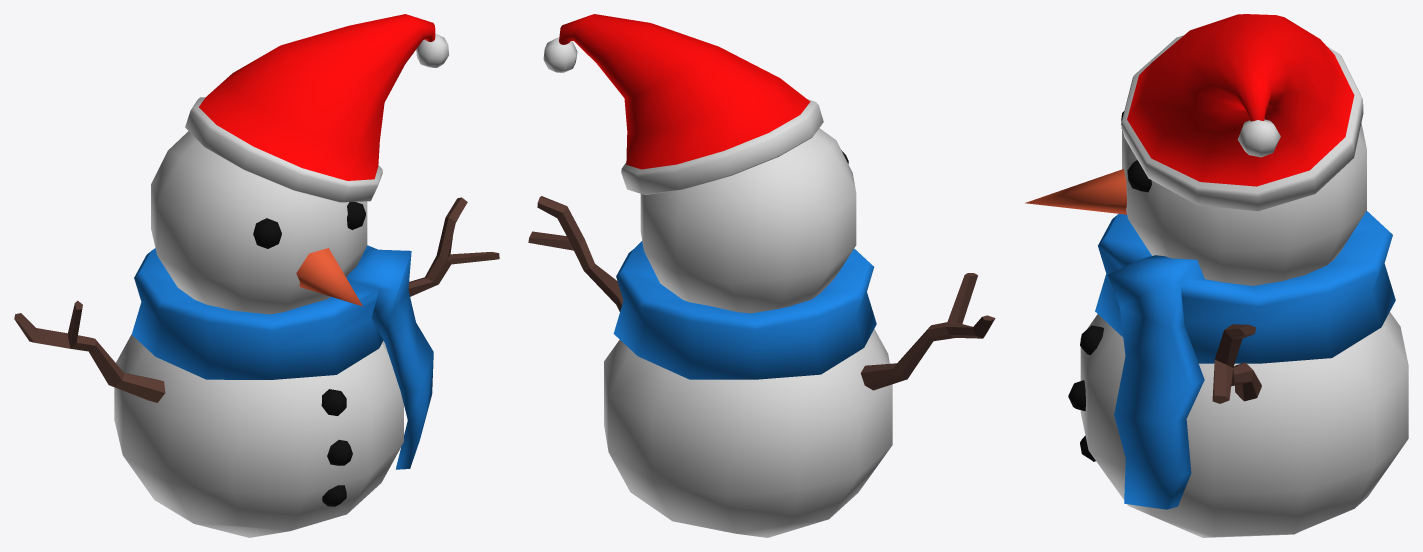
Rendered from snowman_2022_cc.glb.
3 views of the same model, side by side, from view 1: azimuth 30°, elevation 25°; view 2: azimuth 150°, elevation 25°; view 3: azimuth 270°, elevation 25° (orthographic). The views are drawn at different scales.
Visible parts, largest first — view 1: 1.070, primary, 4.002, 5.002, 2.037, 3.010; view 2: 1.070, 4.002, primary, 5.002; view 3: 1.070, primary, 4.002, 5.002, 3.010, 2.037.
Part boxes in pixels (left/top/right/bottom): 1.070: left=114, top=33, right=448, bottom=537; primary: left=131, top=245, right=433, bottom=469; 4.002: left=199, top=14, right=435, bottom=180; 5.002: left=14, top=197, right=499, bottom=402; 2.037: left=253, top=202, right=365, bottom=506; 3.010: left=296, top=248, right=362, bottom=306; 1.070: left=543, top=37, right=892, bottom=537; 4.002: left=559, top=14, right=810, bottom=169; primary: left=613, top=241, right=876, bottom=379; 5.002: left=528, top=196, right=995, bottom=390; 1.070: left=1080, top=35, right=1408, bottom=537; primary: left=1095, top=211, right=1395, bottom=509; 4.002: left=1127, top=14, right=1354, bottom=186; 5.002: left=1212, top=324, right=1261, bottom=403; 3.010: left=1025, top=169, right=1126, bottom=214; 2.037: left=1068, top=111, right=1151, bottom=461.
Size of the model in its own units: 0.7855 by 0.7348 by 0.4811.
